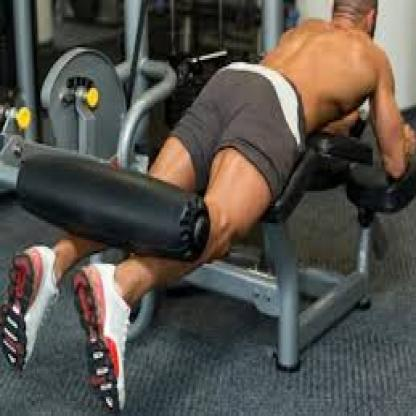reg curl machine: (4, 1, 415, 413)
